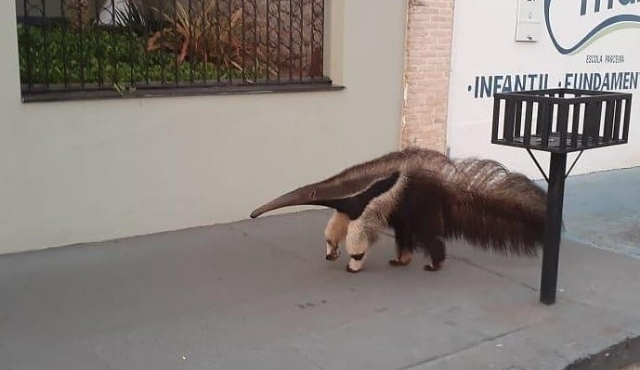TamanduaBandeira: (242, 142, 554, 281)
